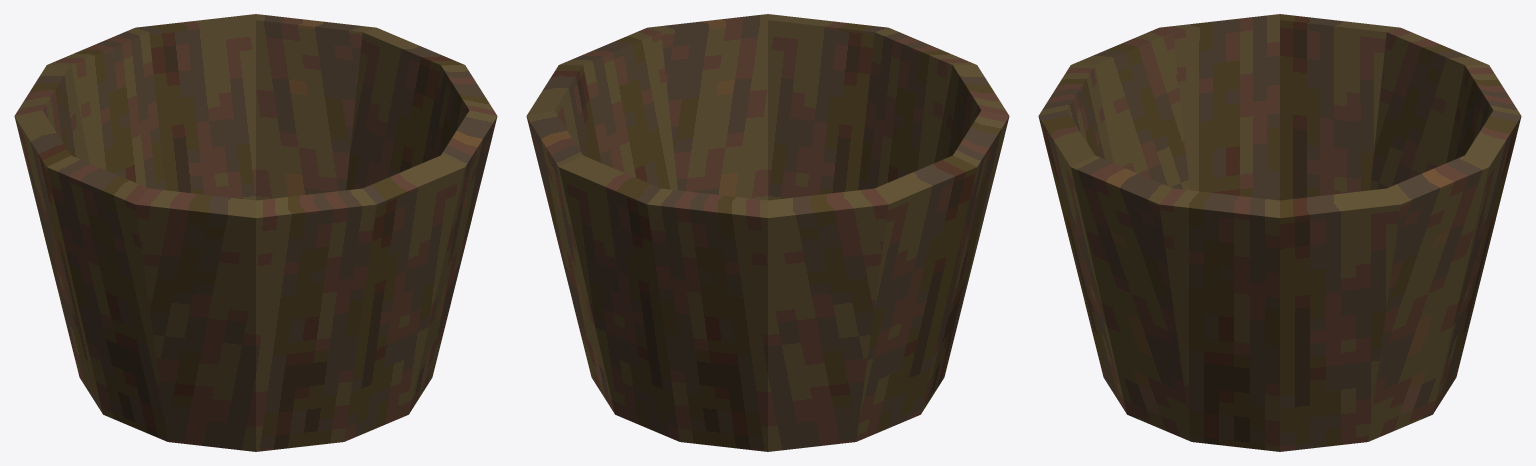
The model's file is props_bucket_01.gltf.
3 views of the same model, side by side, from view 1: azimuth 30°, elevation 25°; view 2: azimuth 150°, elevation 25°; view 3: azimuth 270°, elevation 25° (orthographic).
Parts seen in each view (by area): view 1: props_bucket_01; view 2: props_bucket_01; view 3: props_bucket_01.
Part boxes in pixels (left/top/right/bottom): props_bucket_01: left=14, top=14, right=497, bottom=451; props_bucket_01: left=526, top=14, right=1009, bottom=451; props_bucket_01: left=1038, top=14, right=1521, bottom=451.
Bounding box in the file's own units: 0.5027 × 0.3066 × 0.5027.
1 material, 1 textured.
